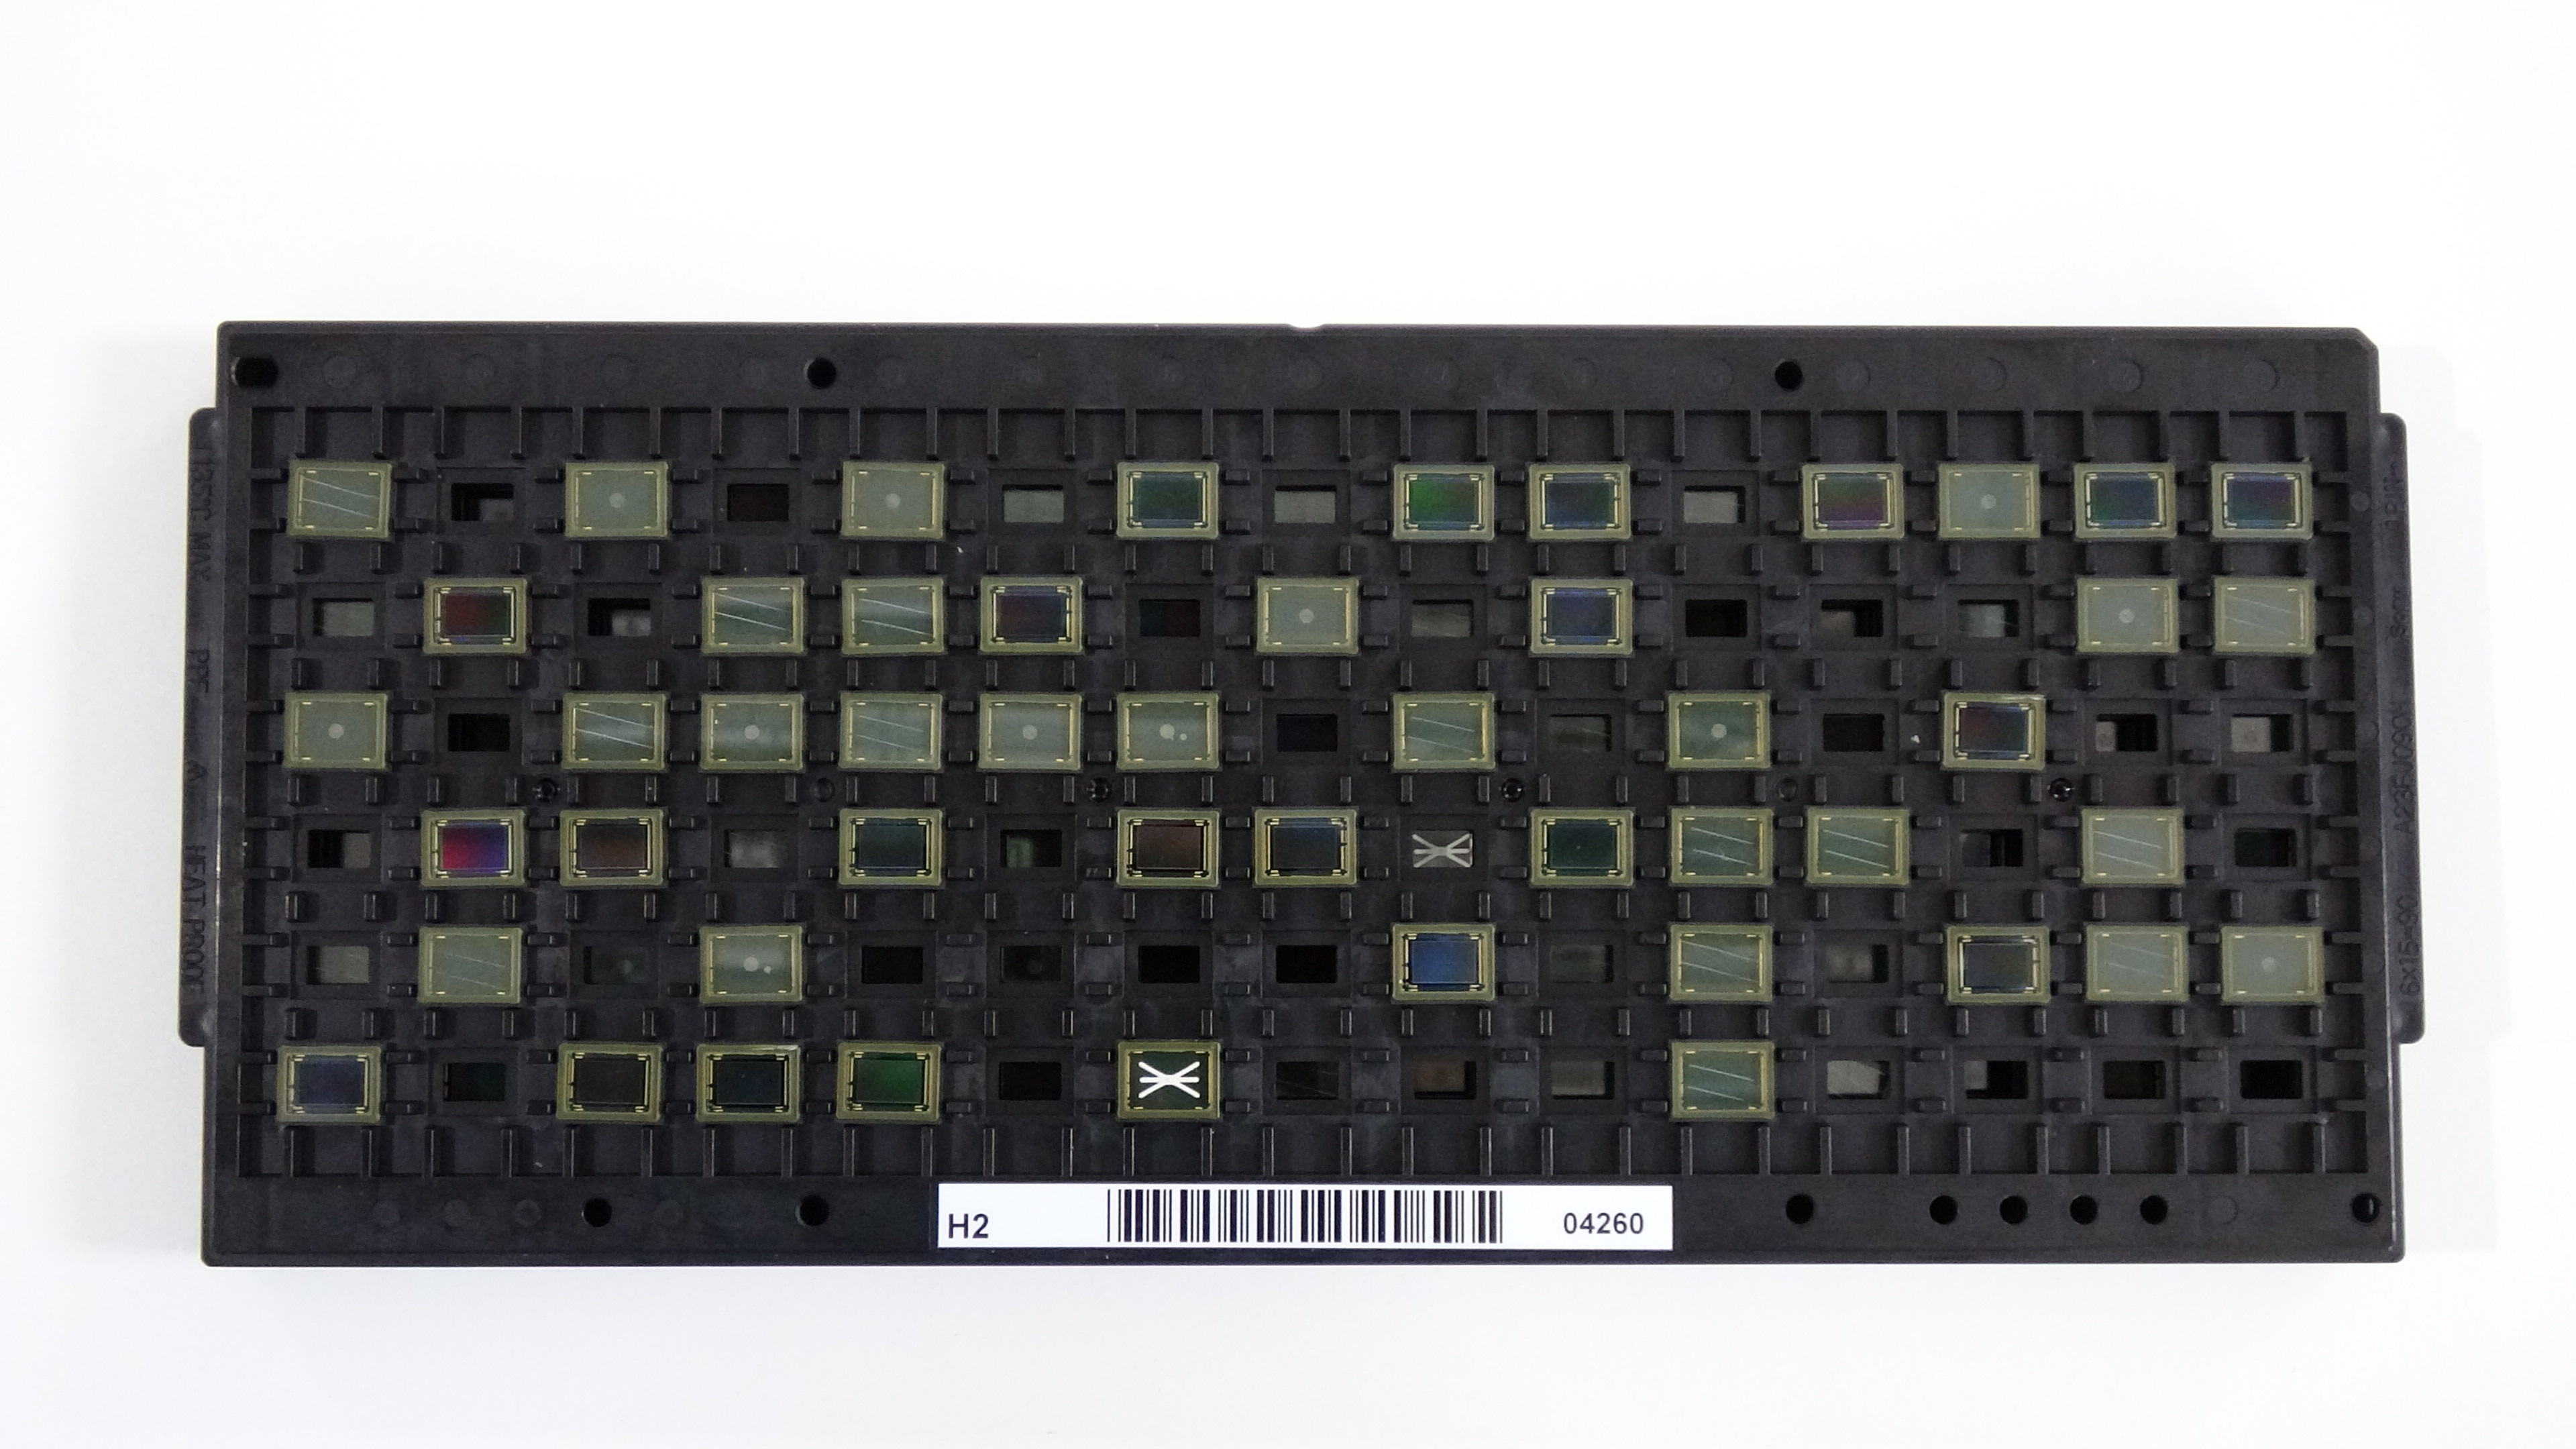Bad_mark_from_BMS_mold: (414, 924, 525, 1008), (1387, 690, 1499, 771), (1670, 1039, 1775, 1122), (835, 688, 941, 770), (1670, 922, 1771, 1005), (2212, 573, 2314, 655), (699, 575, 803, 655), (1801, 809, 1909, 885), (1667, 807, 1769, 885), (287, 464, 391, 540), (2081, 807, 2181, 885), (2084, 922, 2185, 1000), (839, 577, 941, 653), (561, 692, 663, 768)
Bad_mark_from_CDB: (1113, 1040, 1221, 1118)
Bad_mark_from_Maker: (840, 455, 943, 543), (699, 688, 803, 775), (697, 924, 805, 1005), (977, 690, 1083, 771), (283, 688, 389, 770), (2219, 924, 2325, 1003), (563, 460, 669, 540), (1663, 692, 1771, 768), (1254, 573, 1357, 653), (1113, 690, 1217, 768), (1941, 460, 2040, 540), (2075, 575, 2176, 653)
